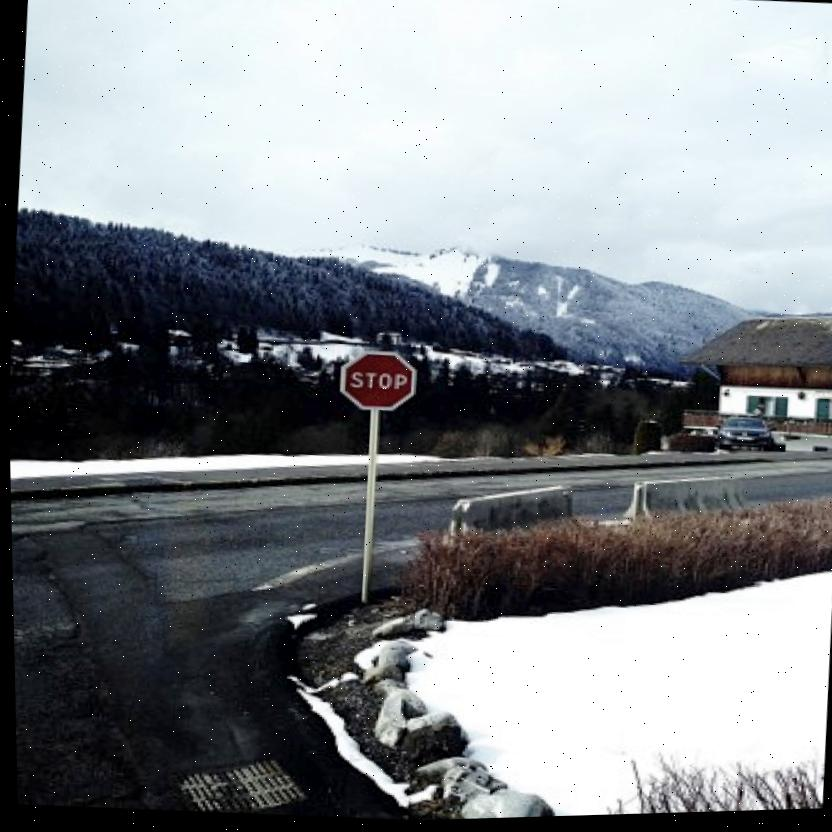Pole: (354, 413, 379, 605)
Sign: (336, 352, 422, 417)
